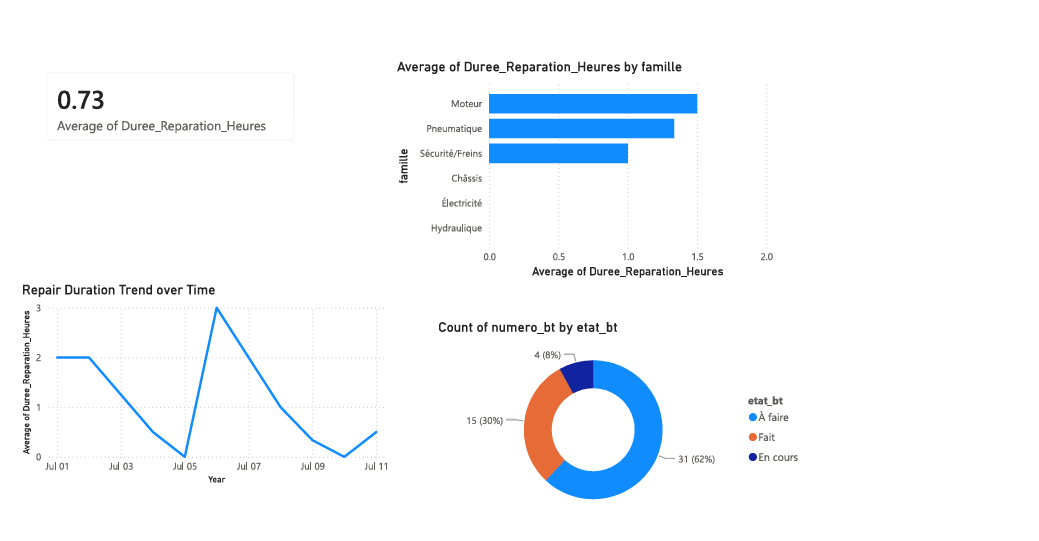

The page's visual inventory and layout, read from the dashboard file:
{"tool":"powerbi","page":{"name":"Optimisation","canvas":[1280,720],"ordinal":3},"visuals":[{"type":"cardVisual","fields":{"Data":["Avg(gmao_camions fact_bt.Duree_Reparation_Heures)"]},"box":[18.6,134.3,345.7,120],"z":0},{"type":"clusteredBarChart","fields":{"Category":["gmao_camions dim_equipements.famille"],"Y":["Avg(gmao_camions fact_bt.Duree_Reparation_Heures)"]},"box":[471.4,134.3,481.4,280],"z":1000},{"type":"lineChart","title":"Repair Duration Trend over Time","fields":{"Category":["gmao_camions fact_bt.date_debut_prevue.Variation.Date Hierarchy.Year","gmao_camions fact_bt.date_debut_prevue.Variation.Date Hierarchy.Month","gmao_camions fact_bt.date_debut_prevue.Variation.Date Hierarchy.Day"],"Y":["Avg(gmao_camions fact_bt.Duree_Reparation_Heures)"]},"box":[0,414.3,471.4,258.6],"z":2000},{"type":"donutChart","fields":{"Category":["gmao_camions fact_bt.etat_bt"],"Y":["CountNonNull(gmao_camions fact_bt.numero_bt)"]},"box":[522.9,461.4,471.4,258.6],"z":3000}]}

Visuals, with their boxes on the page's 1280x720 design canvas (x1, y1, x2, y2). These are canvas units, not pixel positions in the 1039x541 screenshot, which may show the page scaled, cropped or inside an application window:
cardVisual - Avg(gmao_camions fact_bt.Duree_Reparation_Heures): <box>19,134,364,254</box>
clusteredBarChart - gmao_camions dim_equipements.famille x Avg(gmao_camions fact_bt.Duree_Reparation_Heures): <box>471,134,953,414</box>
"Repair Duration Trend over Time" lineChart: <box>0,414,471,673</box>
donutChart - gmao_camions fact_bt.etat_bt x CountNonNull(gmao_camions fact_bt.numero_bt): <box>523,461,994,720</box>
